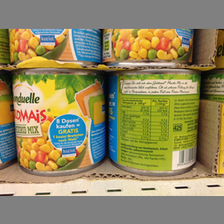corn: (10, 68, 108, 177), (105, 70, 202, 175)
